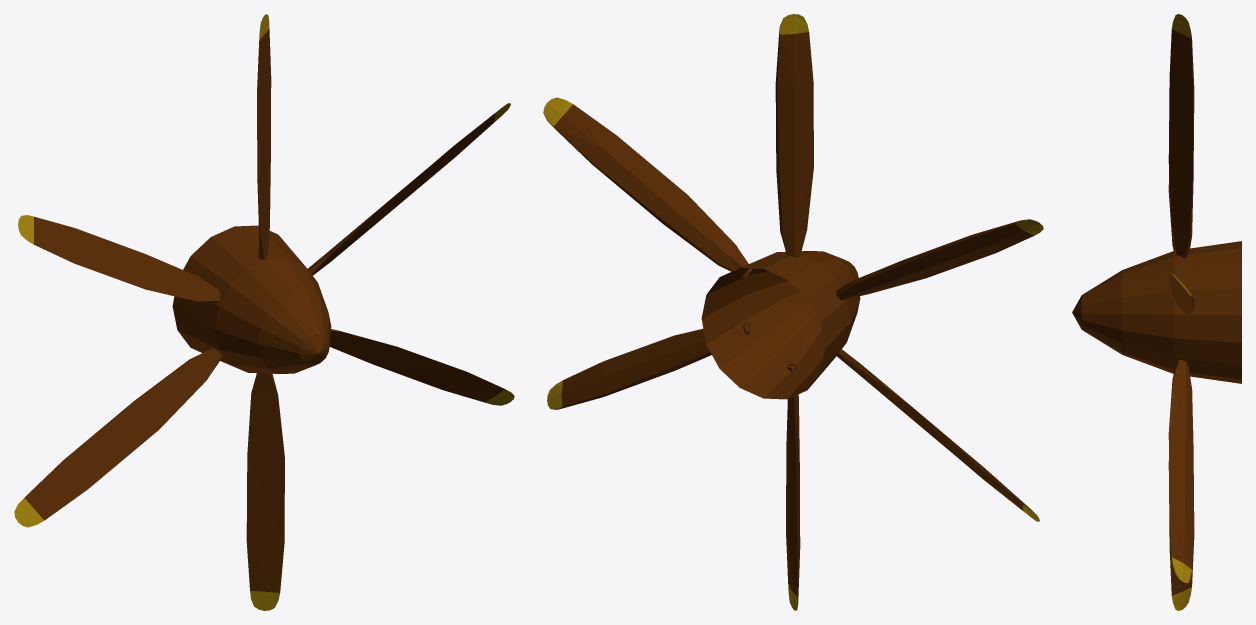
File: Prop_shinden.obj
3 views of the same model, side by side, from view 1: azimuth 30°, elevation 25°; view 2: azimuth 150°, elevation 25°; view 3: azimuth 270°, elevation 25° (orthographic).
Parts seen in each view (by area): view 1: ShapeIndexedFaceSet.003_ShapeIndexedFaceSet.004, ShapeIndexedFaceSet.126_ShapeIndexedFaceSet.127, ShapeIndexedFaceSet.128_ShapeIndexedFaceSet.129, ShapeIndexedFaceSet.124_ShapeIndexedFaceSet.125, ShapeIndexedFaceSet.130_ShapeIndexedFaceSet.131, ShapeIndexedFaceSet.122_ShapeIndexedFaceSet.123, ShapeIndexedFaceSet.132_ShapeIndexedFaceSet.133; view 2: ShapeIndexedFaceSet.003_ShapeIndexedFaceSet.004, ShapeIndexedFaceSet.132_ShapeIndexedFaceSet.133, ShapeIndexedFaceSet.122_ShapeIndexedFaceSet.123, ShapeIndexedFaceSet.130_ShapeIndexedFaceSet.131, ShapeIndexedFaceSet.124_ShapeIndexedFaceSet.125, ShapeIndexedFaceSet.128_ShapeIndexedFaceSet.129, ShapeIndexedFaceSet.126_ShapeIndexedFaceSet.127; view 3: ShapeIndexedFaceSet.003_ShapeIndexedFaceSet.004, ShapeIndexedFaceSet.122_ShapeIndexedFaceSet.123, ShapeIndexedFaceSet.130_ShapeIndexedFaceSet.131, ShapeIndexedFaceSet.128_ShapeIndexedFaceSet.129, ShapeIndexedFaceSet.132_ShapeIndexedFaceSet.133, ShapeIndexedFaceSet.123_ShapeIndexedFaceSet.124, ShapeIndexedFaceSet.131_ShapeIndexedFaceSet.132, ShapeIndexedFaceSet.129_ShapeIndexedFaceSet.130.
Part boxes in pixels (x1,y1,x2,y2): ShapeIndexedFaceSet.003_ShapeIndexedFaceSet.004: (172,225,331,373); ShapeIndexedFaceSet.126_ShapeIndexedFaceSet.127: (24,348,222,520); ShapeIndexedFaceSet.128_ShapeIndexedFaceSet.129: (246,373,284,592); ShapeIndexedFaceSet.124_ShapeIndexedFaceSet.125: (34,216,219,302); ShapeIndexedFaceSet.130_ShapeIndexedFaceSet.131: (329,329,504,402); ShapeIndexedFaceSet.122_ShapeIndexedFaceSet.123: (257,29,271,259); ShapeIndexedFaceSet.132_ShapeIndexedFaceSet.133: (308,113,494,275); ShapeIndexedFaceSet.003_ShapeIndexedFaceSet.004: (701,251,860,399); ShapeIndexedFaceSet.132_ShapeIndexedFaceSet.133: (548,104,751,278); ShapeIndexedFaceSet.122_ShapeIndexedFaceSet.123: (775,27,813,257); ShapeIndexedFaceSet.130_ShapeIndexedFaceSet.131: (557,322,749,409); ShapeIndexedFaceSet.124_ShapeIndexedFaceSet.125: (836,220,1033,300); ShapeIndexedFaceSet.128_ShapeIndexedFaceSet.129: (786,364,800,602); ShapeIndexedFaceSet.126_ShapeIndexedFaceSet.127: (836,349,1029,511); ShapeIndexedFaceSet.003_ShapeIndexedFaceSet.004: (1072,241,1241,383); ShapeIndexedFaceSet.122_ShapeIndexedFaceSet.123: (1168,29,1194,258); ShapeIndexedFaceSet.130_ShapeIndexedFaceSet.131: (1168,359,1194,569); ShapeIndexedFaceSet.128_ShapeIndexedFaceSet.129: (1168,461,1194,595); ShapeIndexedFaceSet.132_ShapeIndexedFaceSet.133: (1168,273,1194,315); ShapeIndexedFaceSet.123_ShapeIndexedFaceSet.124: (1172,14,1191,38); ShapeIndexedFaceSet.131_ShapeIndexedFaceSet.132: (1171,557,1191,582); ShapeIndexedFaceSet.129_ShapeIndexedFaceSet.130: (1172,587,1191,610).
Bounding box in the file's own units: 29.58 × 34 × 8.8.
